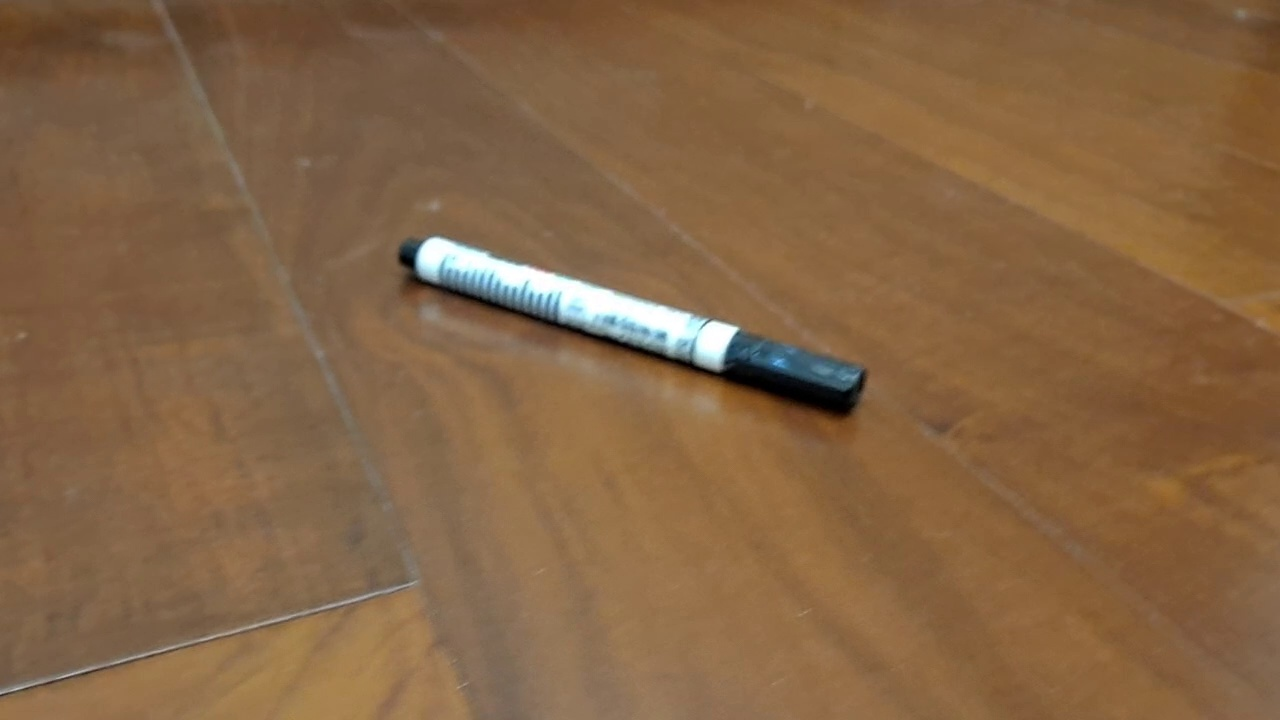pen: (397, 234, 868, 417)
